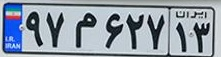character: (71, 10, 99, 50), (45, 8, 68, 50), (103, 9, 125, 50), (125, 10, 146, 52), (24, 7, 45, 48), (146, 11, 166, 52), (192, 18, 212, 54), (173, 19, 192, 53)
